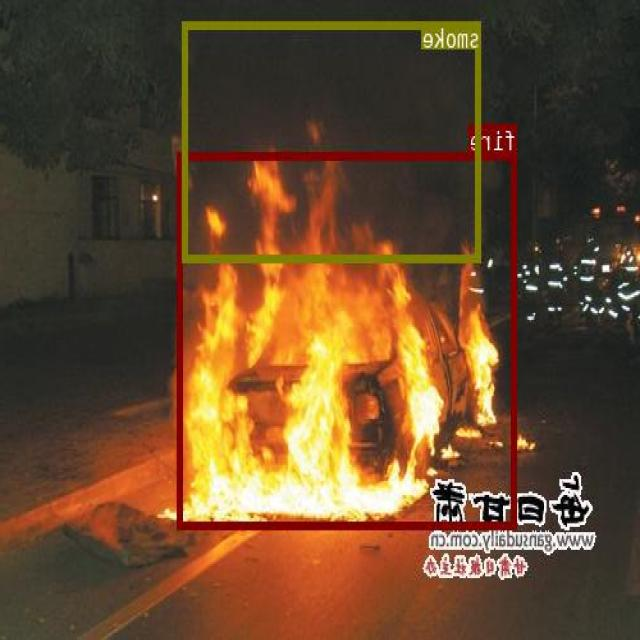fire: (178, 151, 518, 528)
smoke: (183, 21, 482, 261)
